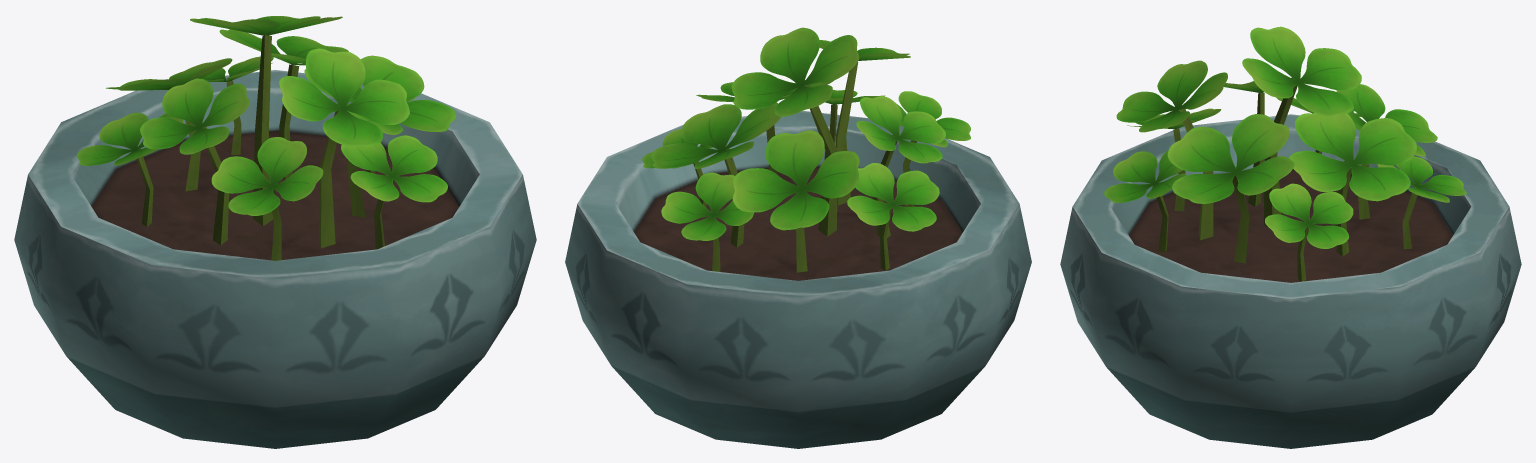
File: flowerBowl3.fbx
The picture shows the model from 3 angles, left to right: view 1: azimuth 30°, elevation 25°; view 2: azimuth 150°, elevation 25°; view 3: azimuth 270°, elevation 25°; orthographic projection. The views are drawn at different scales.
Parts seen in each view (by area): view 1: polySurface2263; view 2: polySurface2263; view 3: polySurface2263.
Part boxes in pixels (x1=…): polySurface2263: x1=14, y1=16, x2=536, y2=448; polySurface2263: x1=565, y1=27, x2=1031, y2=448; polySurface2263: x1=1060, y1=26, x2=1521, y2=448.
Size of the model in its own units: 0.7908 by 0.6357 by 0.7908.
